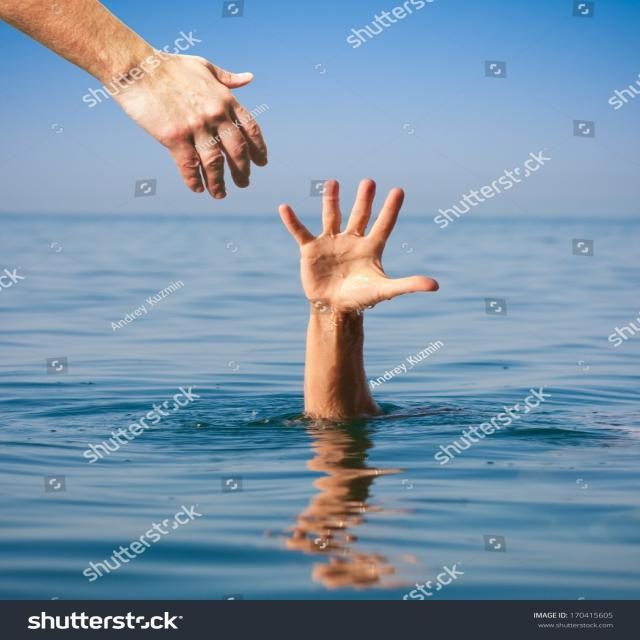Out of Water: (275, 176, 473, 574)
